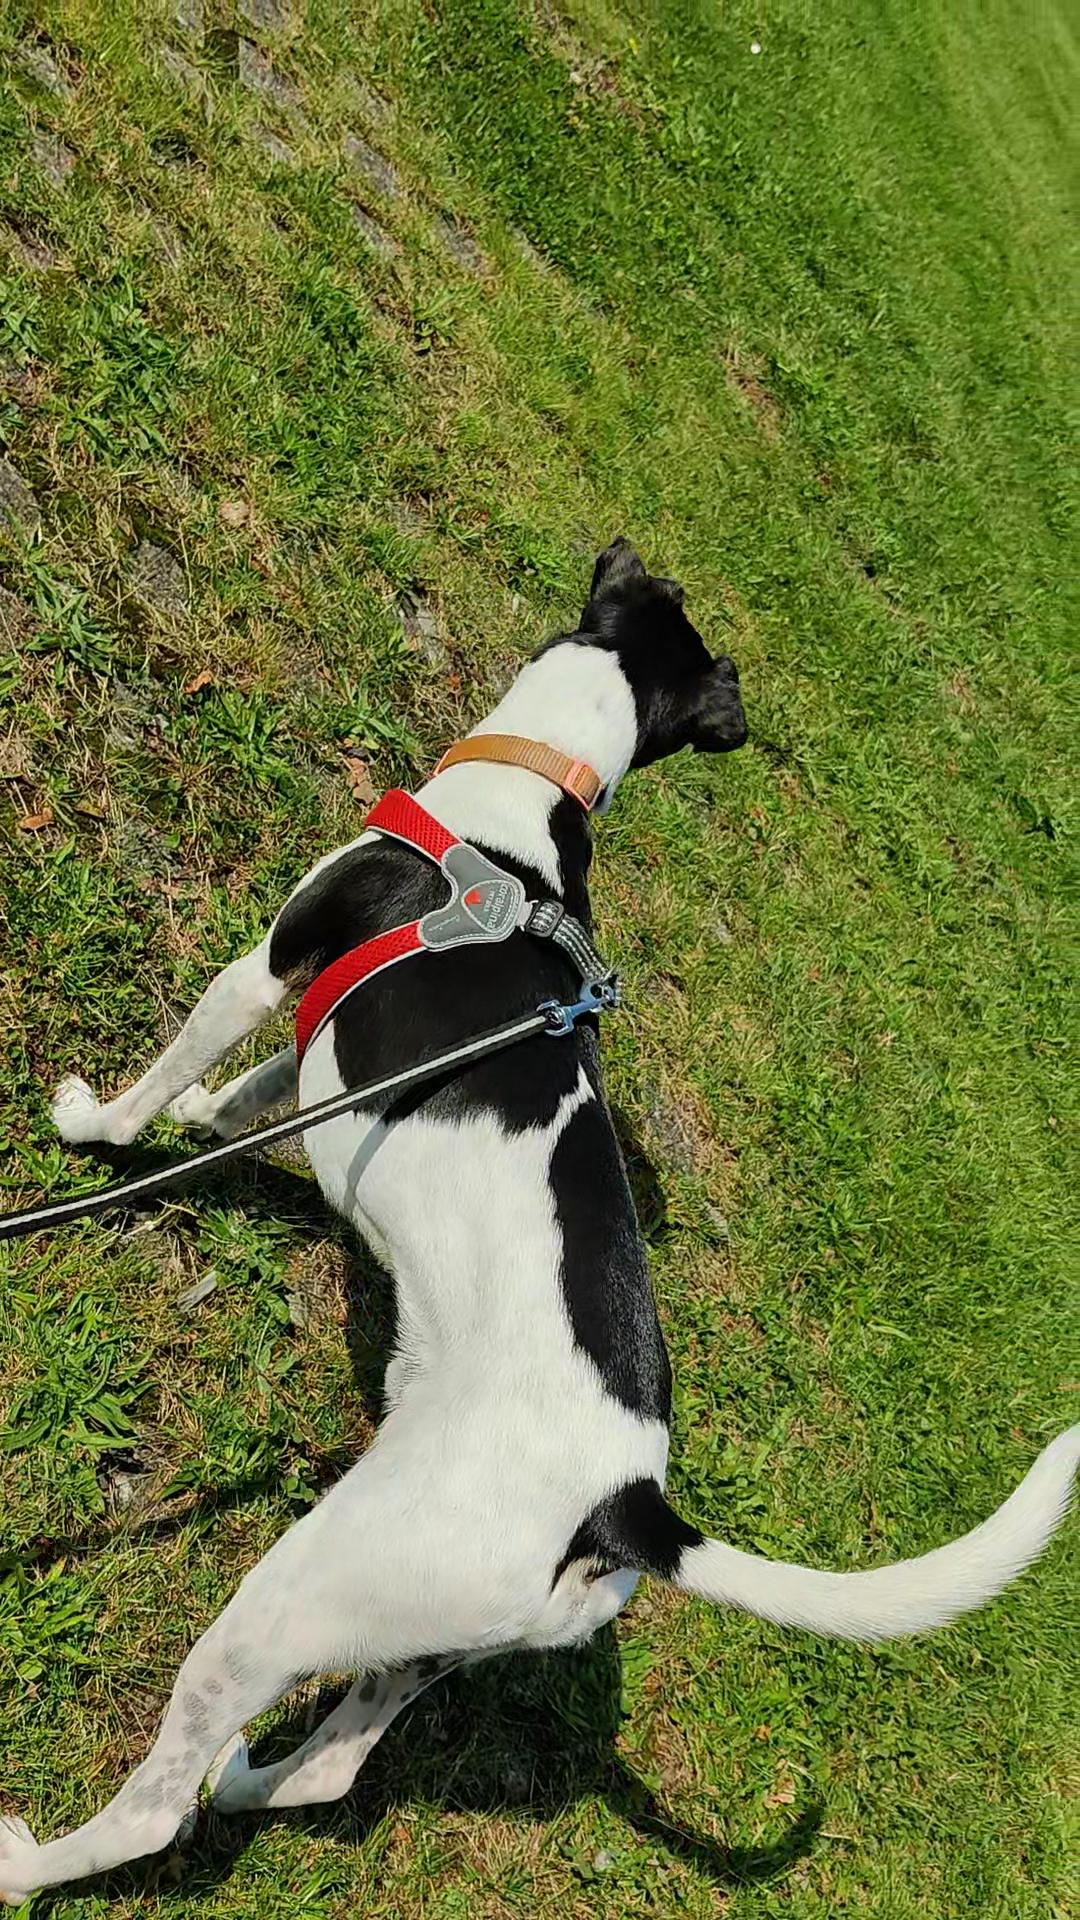Dog: (0, 527, 1079, 1913)
